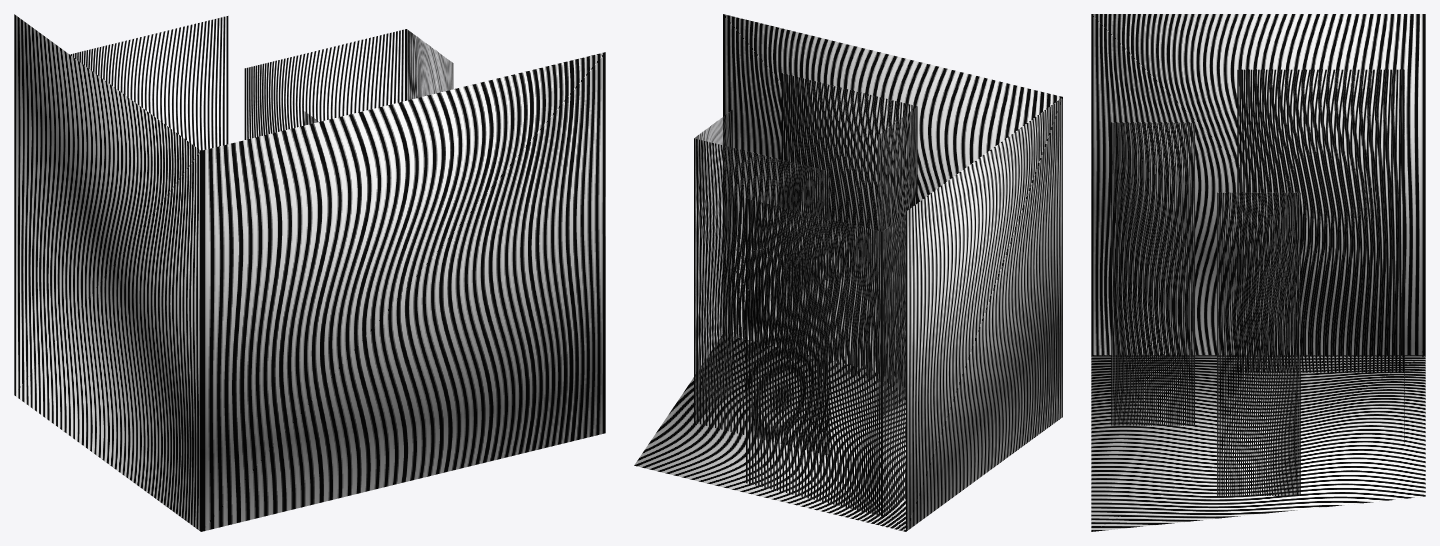
The picture shows the model from 3 angles, left to right: view 1: azimuth 30°, elevation 25°; view 2: azimuth 150°, elevation 25°; view 3: azimuth 270°, elevation 25°; orthographic projection. The views are drawn at different scales.
Visible parts, largest first — view 1: installation idea 7 17 26.006, installation idea 7 17 26.007, installation idea 7 17 26, installation idea 7 17 26.003, installation idea 7 17 26.001; view 2: installation idea 7 17 26.007, installation idea 7 17 26.006, installation idea 7 17 26.003, installation idea 7 17 26, installation idea 7 17 26.008, installation idea 7 17 26.004, installation idea 7 17 26.005, installation idea 7 17 26.001, installation idea 7 17 26.002; view 3: installation idea 7 17 26.007, installation idea 7 17 26.008, installation idea 7 17 26.002, installation idea 7 17 26.005, installation idea 7 17 26.001.
Part boxes in pixels (x1,y1,x2,y2): installation idea 7 17 26.006: (201, 52, 605, 531); installation idea 7 17 26.007: (14, 14, 200, 531); installation idea 7 17 26: (244, 29, 406, 139); installation idea 7 17 26.003: (70, 16, 228, 150); installation idea 7 17 26.001: (406, 29, 453, 100); installation idea 7 17 26.007: (906, 97, 1062, 531); installation idea 7 17 26.006: (723, 14, 1062, 377); installation idea 7 17 26.003: (746, 198, 881, 516); installation idea 7 17 26: (694, 138, 829, 455); installation idea 7 17 26.008: (634, 334, 905, 531); installation idea 7 17 26.004: (781, 73, 917, 387); installation idea 7 17 26.005: (878, 106, 917, 419); installation idea 7 17 26.001: (694, 110, 732, 421); installation idea 7 17 26.002: (882, 214, 905, 515); installation idea 7 17 26.007: (1091, 14, 1425, 355); installation idea 7 17 26.008: (1091, 355, 1425, 531); installation idea 7 17 26.002: (1237, 69, 1404, 372); installation idea 7 17 26.005: (1111, 122, 1194, 425); installation idea 7 17 26.001: (1217, 192, 1300, 495).
Size of the model in its own units: 3.05 by 2.74 by 2.44.
2 materials, 2 textured.
